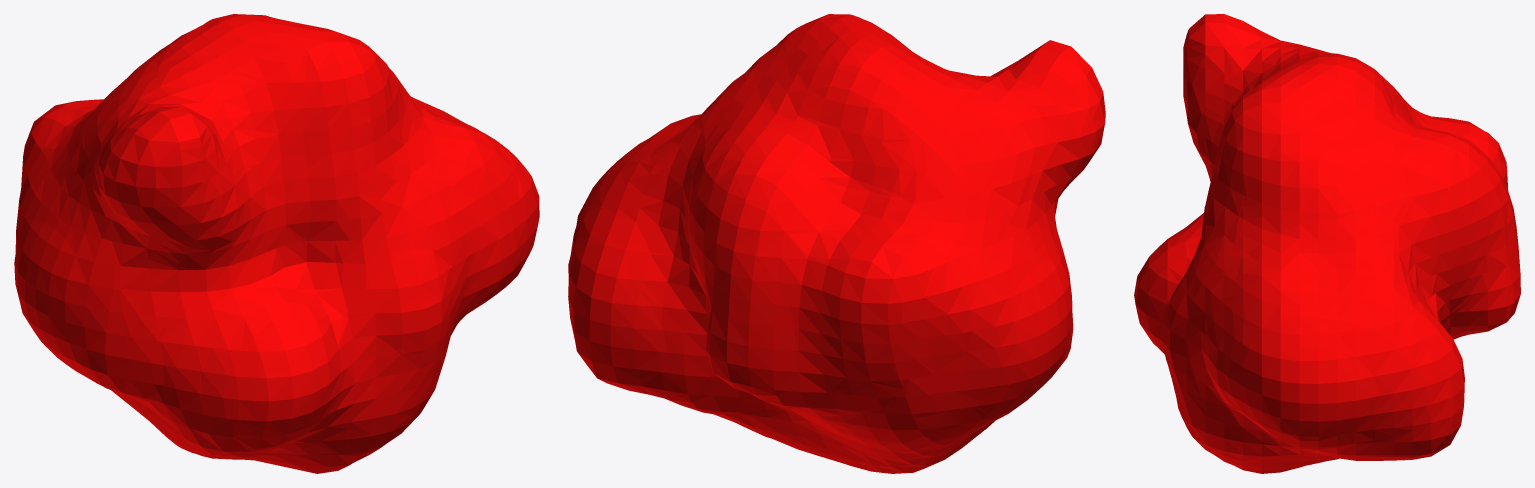
File: yqfB_coarse.dae
3 views of the same model, side by side, from view 1: azimuth 30°, elevation 25°; view 2: azimuth 150°, elevation 25°; view 3: azimuth 270°, elevation 25° (orthographic). The views are drawn at different scales.
Visible parts, largest first — view 1: yqfB; view 2: yqfB; view 3: yqfB.
Boxes of the visible parts, x1,y1,x2,y2 form: yqfB: (14,14,539,473); yqfB: (568,14,1105,473); yqfB: (1134,14,1520,473).
Bounding box in the file's own units: 42.65 × 36.87 × 33.08.
